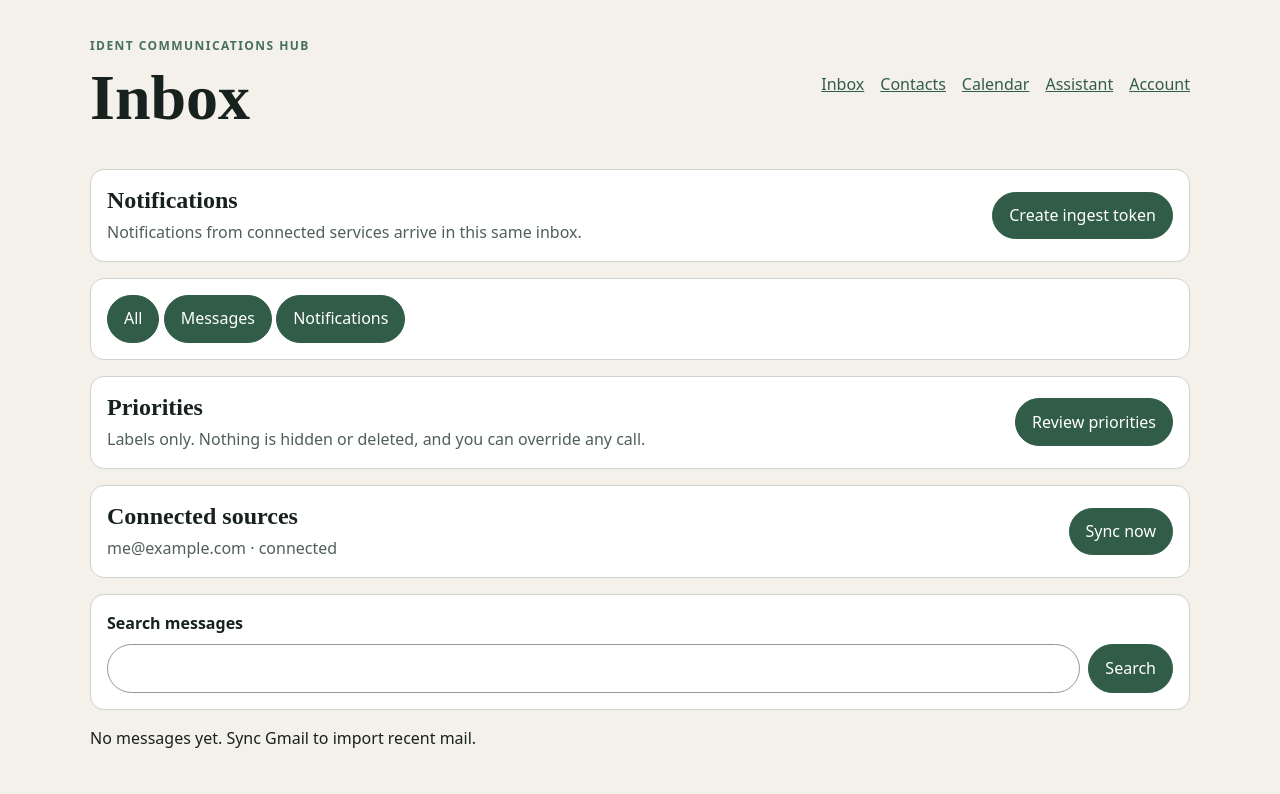
Test case: InboxClient › says so when contacts could not be refreshed after an otherwise good sync
Click the button "Sync now". click: (1121, 531)
box: [1068,508,1173,555]
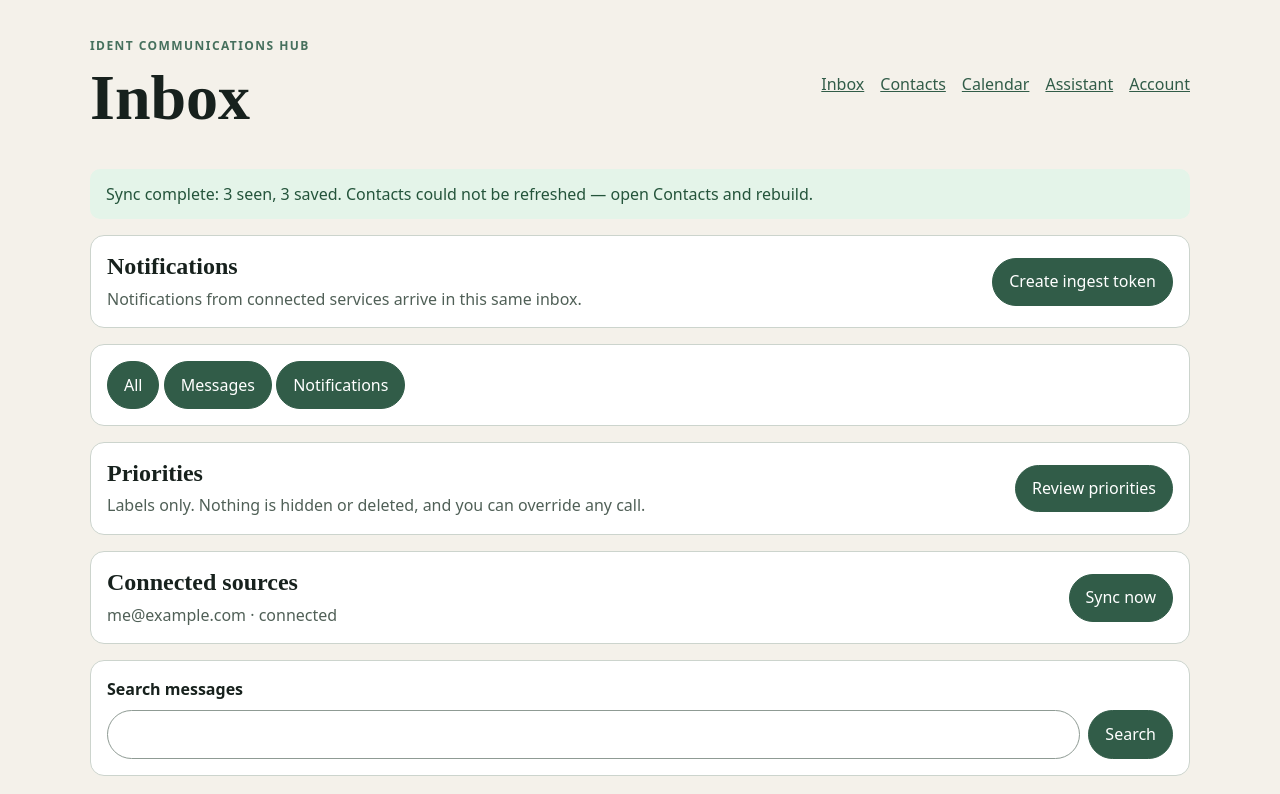
Expected: the message shows "Sync complete: 3 seen, 3 saved.", [106,183,813,205]
Expected: the message shows "Contacts could not be refreshed", [106,183,813,205]
